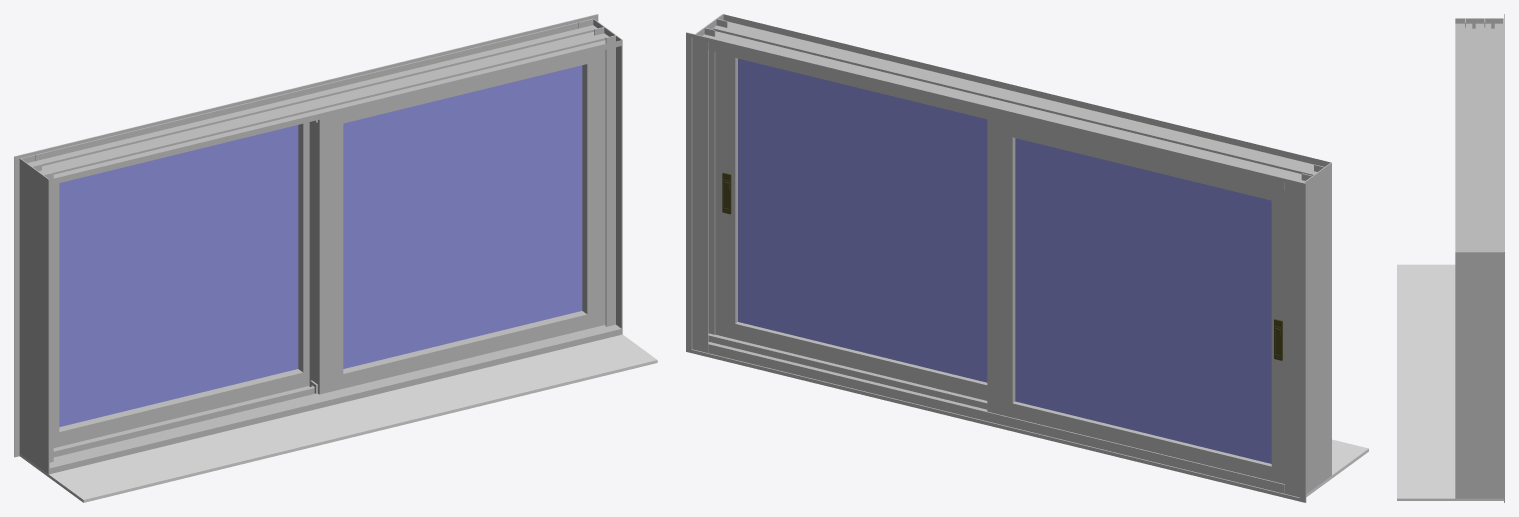
The model's file is Window.fbx.
The picture shows the model from 3 angles, left to right: view 1: azimuth 30°, elevation 25°; view 2: azimuth 150°, elevation 25°; view 3: azimuth 270°, elevation 25°; orthographic projection. The views are drawn at different scales.
Visible parts, largest first — view 1: Window; view 2: Window; view 3: Window.
Boxes of the visible parts, <box> form: Window: <box>14,14,657,502</box>; Window: <box>686,14,1368,502</box>; Window: <box>1397,14,1504,502</box>.
Bounding box in the file's own units: 54.43 × 284 × 140.
